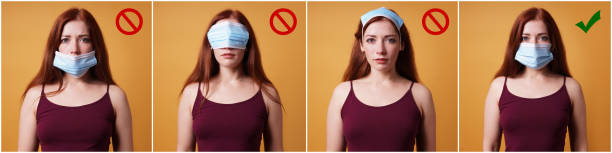with mask: (51, 19, 102, 77), (512, 14, 563, 72)
without mask: (354, 17, 405, 75), (201, 16, 252, 74)
